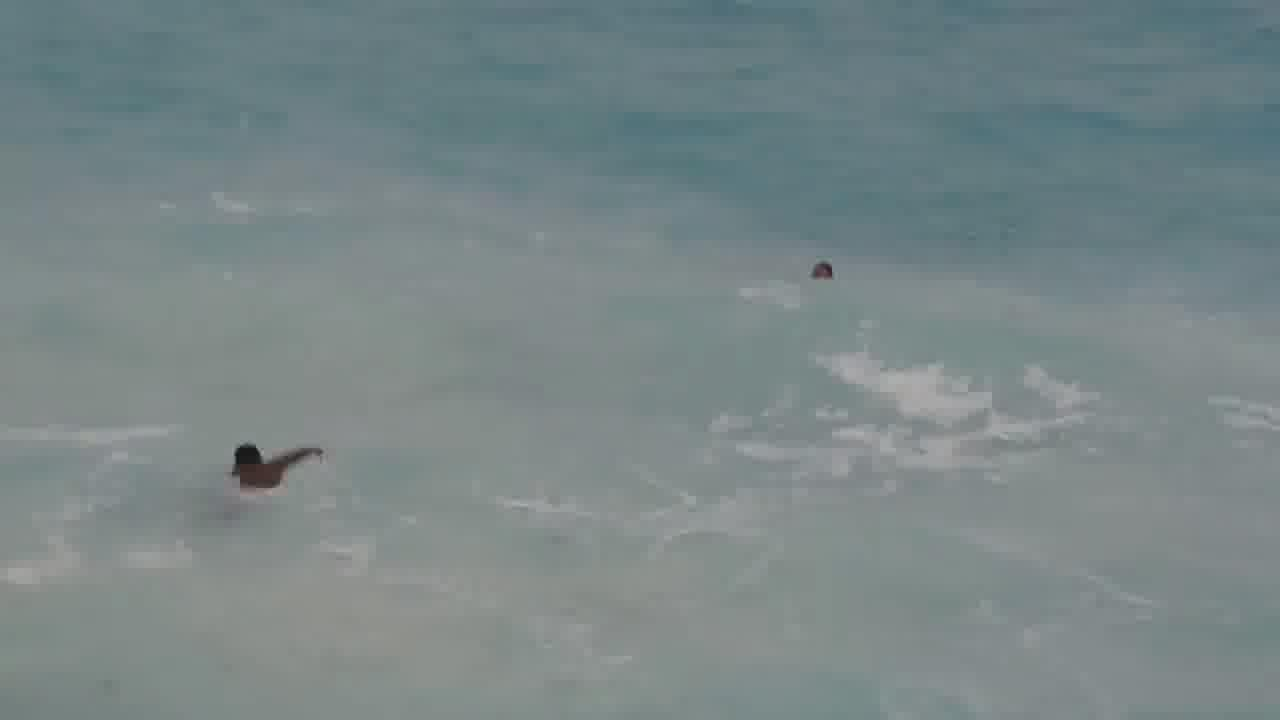swimmer: (214, 438, 336, 500), (787, 246, 852, 290)
